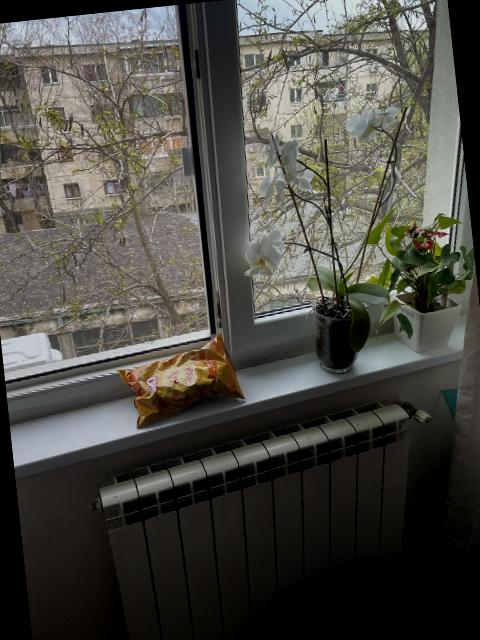Chio Hula Hoops Cheese 70g: (117, 334, 248, 428)
